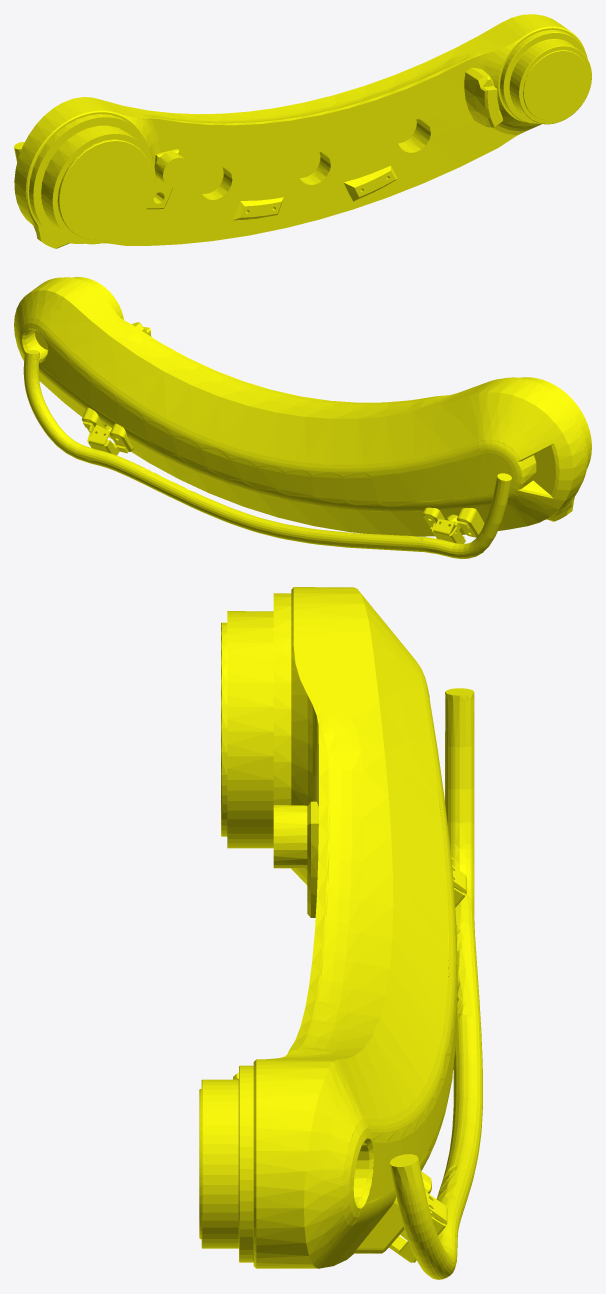
The picture shows the model from 3 angles, top to bottom: view 1: azimuth 30°, elevation 25°; view 2: azimuth 150°, elevation 25°; view 3: azimuth 270°, elevation 25°; orthographic projection. The views are drawn at different scales.
Parts seen in each view (by area): view 1: node; view 2: node; view 3: node.
Boxes of the visible parts, <box> form: node: <box>14,14,591,248</box>; node: <box>14,277,591,558</box>; node: <box>199,587,482,1279</box>.
Bounding box in the file's own units: 1042 × 305 × 294.
